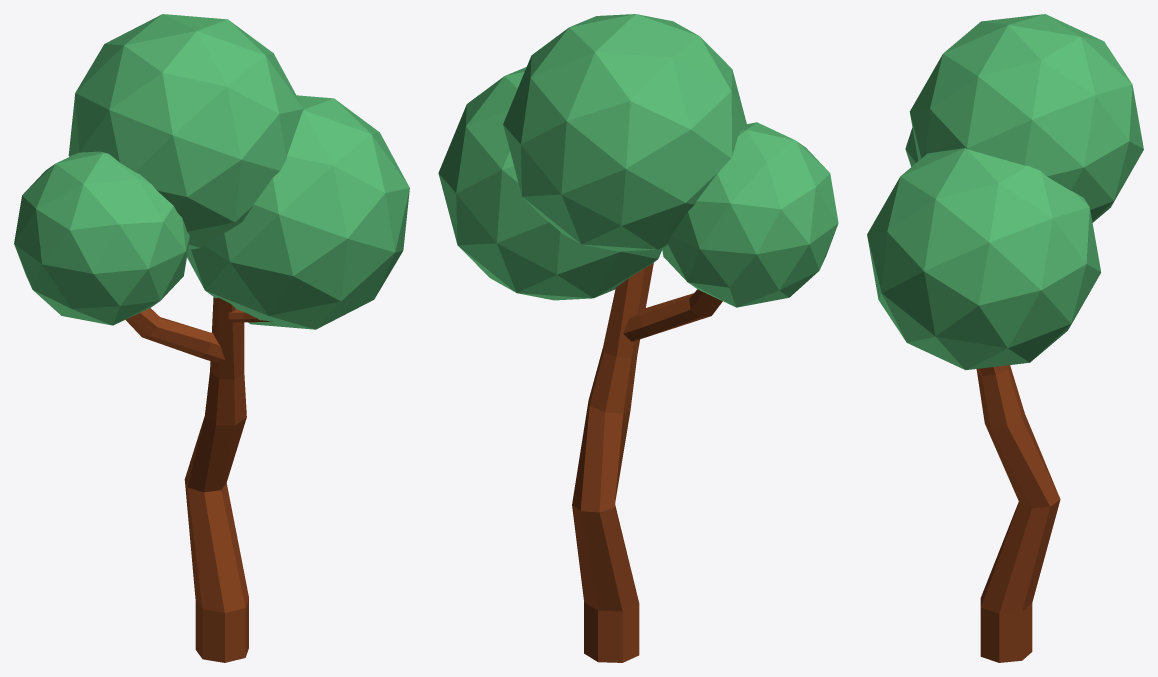
Rendered from Tree1_3.obj.
3 renders of one model, left to right at view 1: azimuth 30°, elevation 25°; view 2: azimuth 150°, elevation 25°; view 3: azimuth 270°, elevation 25°, orthographic. The views are drawn at different scales.
Parts seen in each view (by area): view 1: Icosphere.002; view 2: Icosphere.002; view 3: Icosphere.002.
Boxes of the visible parts, x1=… form: Icosphere.002: x1=14, y1=14, x2=409, y2=662; Icosphere.002: x1=438, y1=14, x2=838, y2=662; Icosphere.002: x1=867, y1=14, x2=1143, y2=662.
Bounding box in the file's own units: 17.08 × 28.09 × 11.46.
Materials: 1 (1 with a texture image).
